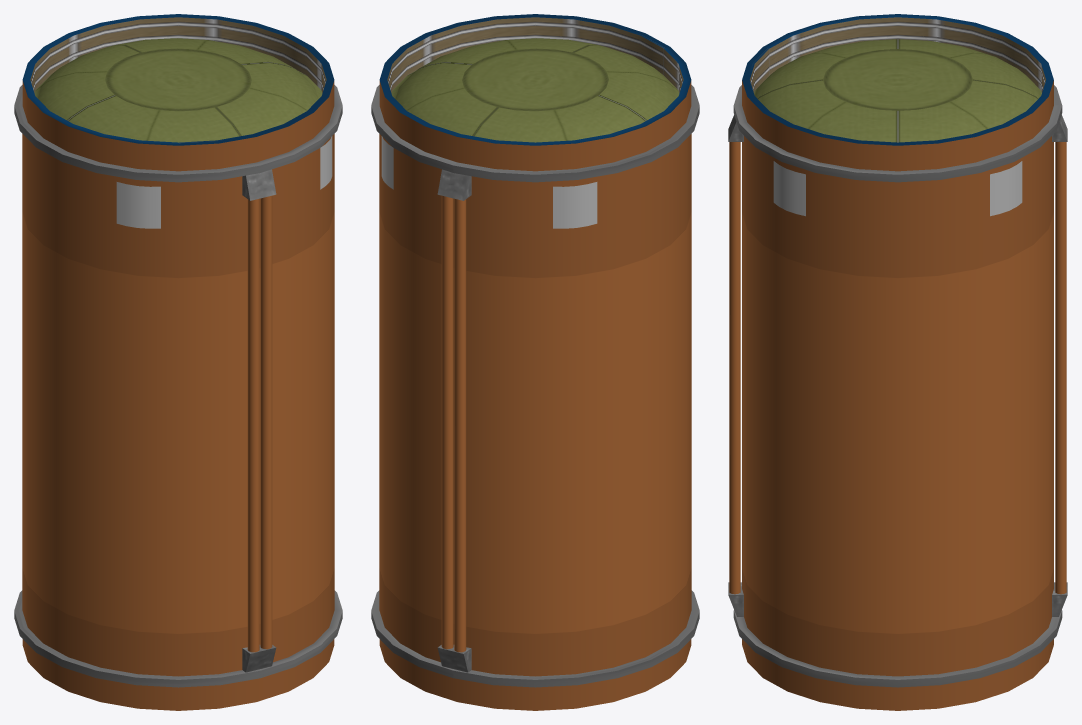
The model's file is FLM-14400L.FBX.
3 views of the same model, side by side, from view 1: azimuth 30°, elevation 25°; view 2: azimuth 150°, elevation 25°; view 3: azimuth 270°, elevation 25° (orthographic).
Visible parts, largest first — view 1: TankBody, EndCap001, TankSleeve001, TankSleeve002, FuelPipe001, FuelPipe002, BarrelBand003, BarrelBand002, decalPanel002, FuelPlug001, FuelPlug002, decalPanel001; view 2: TankBody, EndCap001, TankSleeve001, TankSleeve002, FuelPipe003, FuelPipe004, BarrelBand003, BarrelBand002, decalPanel003, FuelPlug004, FuelPlug003, decalPanel004; view 3: TankBody, EndCap001, TankSleeve001, TankSleeve002, FuelPipe004, FuelPipe002, BarrelBand003, BarrelBand002, decalPanel001, decalPanel004.
Part boxes in pixels (x1,y1,x2,y2): TankBody: (22, 134, 334, 676); EndCap001: (34, 38, 322, 142); TankSleeve001: (22, 14, 334, 171); TankSleeve002: (22, 639, 334, 710); FuelPipe001: (247, 198, 259, 652); FuelPipe002: (260, 195, 272, 649); BarrelBand003: (14, 85, 342, 182); BarrelBand002: (14, 590, 342, 687); decalPanel002: (116, 182, 160, 228); FuelPlug001: (242, 169, 276, 200); FuelPlug002: (242, 645, 276, 672); decalPanel001: (320, 136, 332, 189); TankBody: (379, 134, 691, 676); EndCap001: (391, 38, 679, 142); TankSleeve001: (379, 14, 691, 171); TankSleeve002: (379, 639, 691, 710); FuelPipe003: (454, 198, 466, 652); FuelPipe004: (441, 195, 453, 649); BarrelBand003: (371, 85, 699, 182); BarrelBand002: (371, 590, 699, 687); decalPanel003: (553, 182, 597, 228); FuelPlug004: (437, 169, 471, 200); FuelPlug003: (437, 645, 471, 672); decalPanel004: (381, 136, 393, 189); TankBody: (742, 136, 1053, 676); EndCap001: (754, 39, 1041, 142); TankSleeve001: (742, 14, 1053, 171); TankSleeve002: (742, 639, 1053, 710); FuelPipe004: (1055, 142, 1066, 594); FuelPipe002: (729, 142, 740, 594); BarrelBand003: (733, 85, 1062, 182); BarrelBand002: (733, 610, 1062, 687); decalPanel001: (773, 161, 805, 216); decalPanel004: (990, 161, 1022, 216).
Size of what is drawn, in the model's own units: 3.95 by 7.49 by 4.08.
